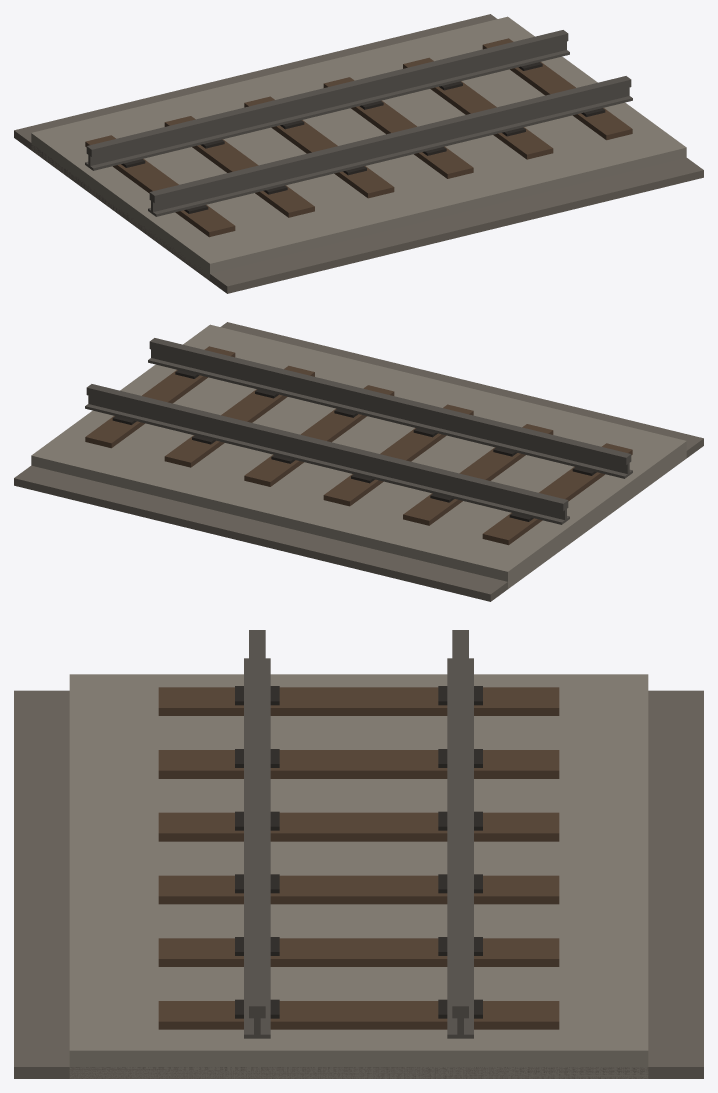
The model's file is rieles-riel-recta-media.glb.
3 views of the same model, one above another, from view 1: azimuth 30°, elevation 25°; view 2: azimuth 150°, elevation 25°; view 3: azimuth 270°, elevation 25° (orthographic). The views are drawn at different scales.
Visible parts, largest first — view 1: riel_recta_media_Balasto, riel_recta_media_Riel, riel_recta_media_BalastoHombro, riel_recta_media_Durmiente, riel_recta_media_PlacaApoyo; view 2: riel_recta_media_Balasto, riel_recta_media_Riel, riel_recta_media_BalastoHombro, riel_recta_media_Durmiente, riel_recta_media_PlacaApoyo; view 3: riel_recta_media_Balasto, riel_recta_media_Durmiente, riel_recta_media_BalastoHombro, riel_recta_media_Riel, riel_recta_media_PlacaApoyo.
Boxes of the visible parts, bbox=[...] form: riel_recta_media_Balasto: bbox=[31, 16, 686, 280]; riel_recta_media_Riel: bbox=[85, 30, 632, 216]; riel_recta_media_BalastoHombro: bbox=[14, 14, 703, 293]; riel_recta_media_Durmiente: bbox=[85, 38, 632, 237]; riel_recta_media_PlacaApoyo: bbox=[121, 62, 605, 213]; riel_recta_media_Balasto: bbox=[31, 324, 686, 588]; riel_recta_media_Riel: bbox=[85, 338, 632, 524]; riel_recta_media_BalastoHombro: bbox=[14, 322, 703, 601]; riel_recta_media_Durmiente: bbox=[85, 346, 632, 545]; riel_recta_media_PlacaApoyo: bbox=[112, 370, 596, 521]; riel_recta_media_Balasto: bbox=[69, 674, 648, 1078]; riel_recta_media_Durmiente: bbox=[158, 687, 559, 1029]; riel_recta_media_BalastoHombro: bbox=[14, 690, 703, 1078]; riel_recta_media_Riel: bbox=[244, 630, 473, 1038]; riel_recta_media_PlacaApoyo: bbox=[235, 686, 482, 1018].
Size of the model in its own units: 4 by 0.36 by 3.1.
